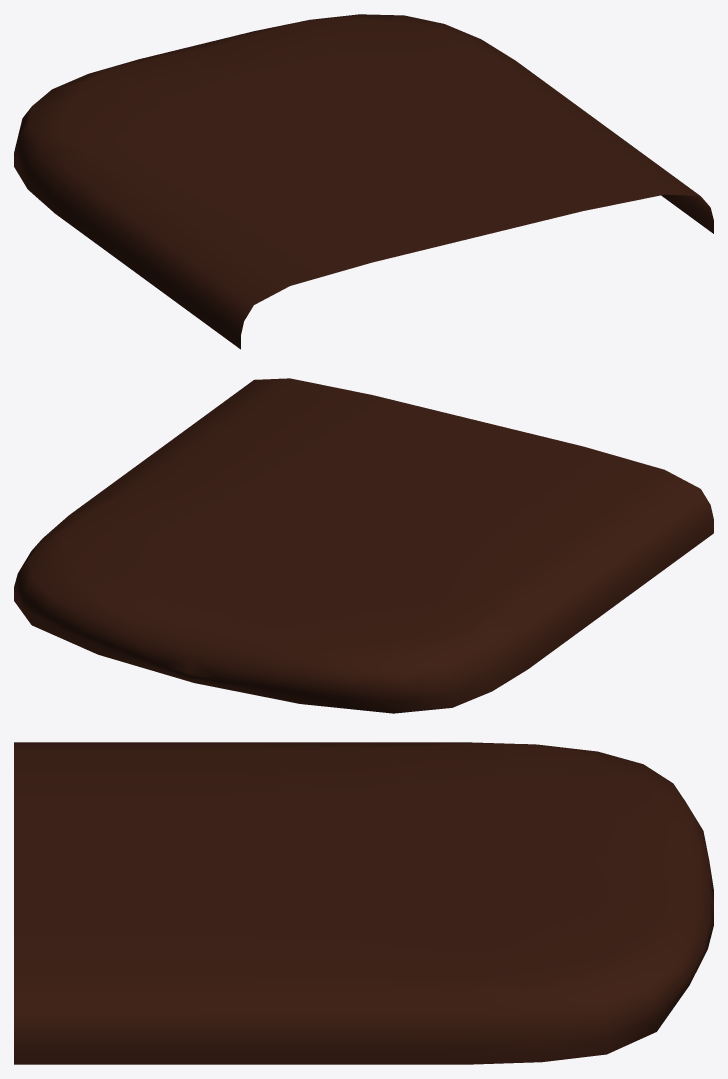
Rendered from Soil End.fbx.
3 views of the same model, one above another, from view 1: azimuth 30°, elevation 25°; view 2: azimuth 150°, elevation 25°; view 3: azimuth 270°, elevation 25° (orthographic). The views are drawn at different scales.
Parts seen in each view (by area): view 1: Soil_End; view 2: Soil_End; view 3: Soil_End.
Part boxes in pixels (<box>): Soil_End: <box>14,14,713,349</box>; Soil_End: <box>14,378,713,713</box>; Soil_End: <box>14,742,713,1064</box>.
Bounding box in the file's own units: 90 × 10 × 95.
1 material, 1 textured.
